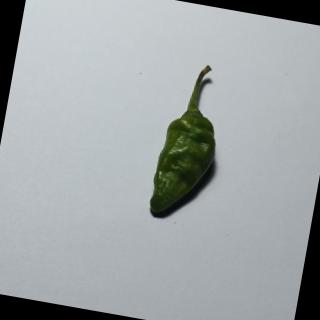Cabai Hijau: (142, 55, 240, 230)
